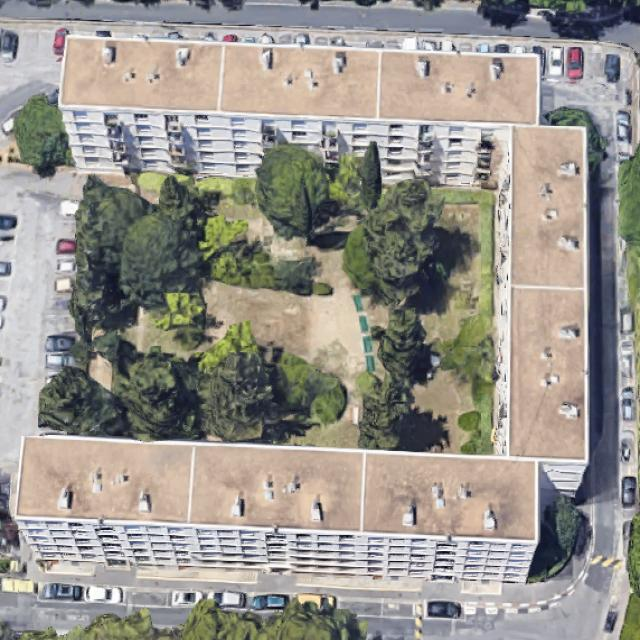immeuble: (9, 436, 541, 584), (56, 35, 542, 190), (489, 125, 589, 494)
